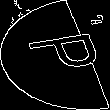P_E: (9, 31, 101, 79)
